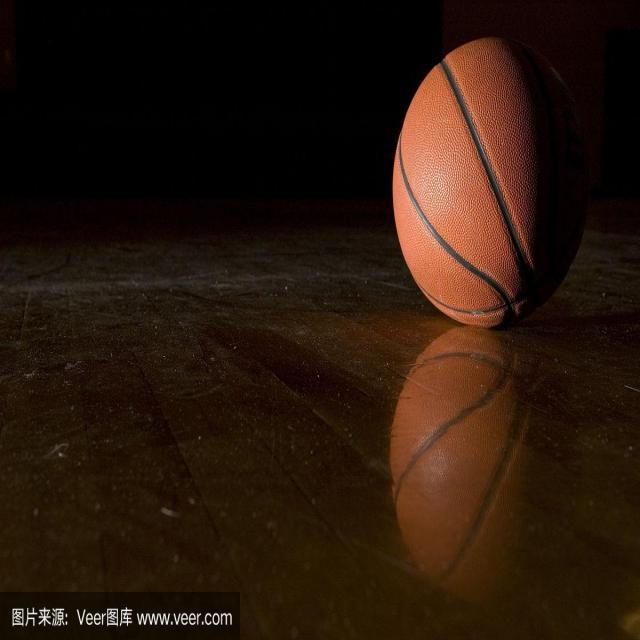rim: (391, 31, 594, 326), (392, 334, 590, 600)
